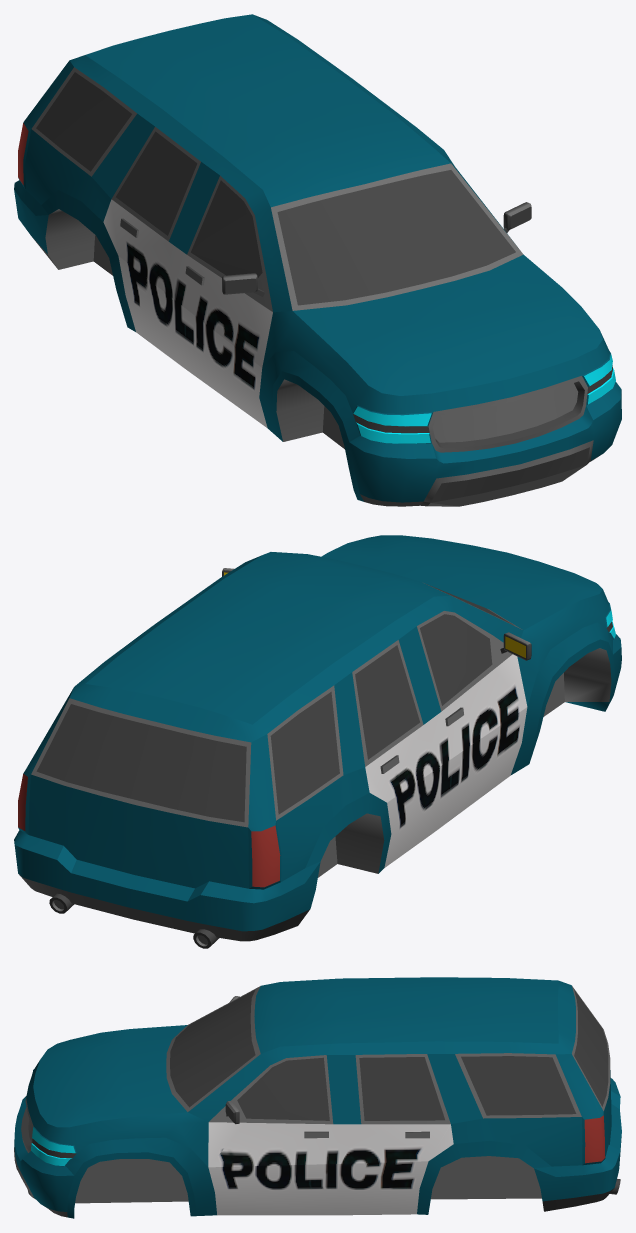
The model's file is Police4x4_LOD.fbx.
3 renders of one model, top to bottom at view 1: azimuth 30°, elevation 25°; view 2: azimuth 150°, elevation 25°; view 3: azimuth 270°, elevation 25°, orthographic. The views are drawn at different scales.
Parts seen in each view (by area): view 1: Body_LOD00; view 2: Body_LOD00; view 3: Body_LOD00.
Boxes of the visible parts, x1,y1,x2,y2 form: Body_LOD00: (14,14,621,506); Body_LOD00: (14,535,621,948); Body_LOD00: (14,977,621,1218).
Size of what is drawn, in the model's own units: 208 by 141 by 459.
